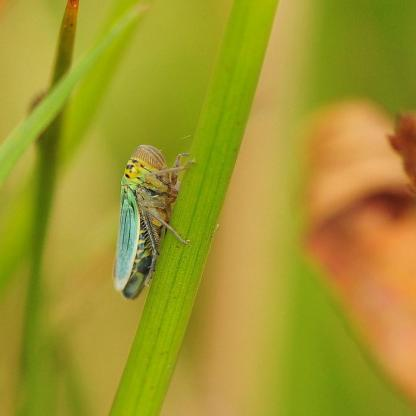Green-Leafhopper: (111, 134, 199, 304)
